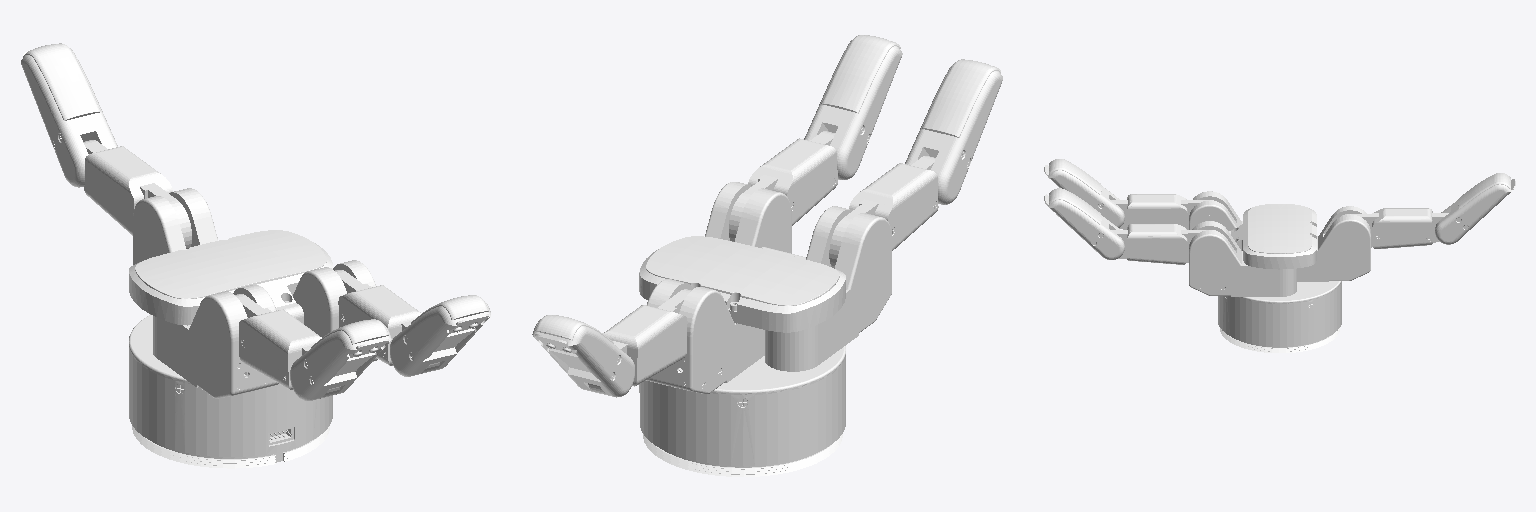
--- What the picture shows (computed from the rendered views, not written in the file) ---
The picture shows the robot from 3 angles, left to right: view 1: azimuth 30°, elevation 25°; view 2: azimuth 150°, elevation 25°; view 3: azimuth 270°, elevation 25°; orthographic projection.
Robot: kuka-lwr-4plus-bh8-mod — 23 links, 22 joints (15 revolute, 7 fixed); root link world; default pose: all joints at 0.
Visible links, largest first — view 1: bhand_palm_link, finger_1/prox_link, finger_3/dist_link, finger_3/med_link, finger_1/dist_link, finger_2/dist_link, finger_1/med_link, finger_2/med_link, finger_2/prox_link; view 2: bhand_palm_link, finger_1/prox_link, finger_1/dist_link, finger_2/dist_link, finger_1/med_link, finger_2/med_link, finger_3/dist_link, finger_3/med_link, finger_2/prox_link; view 3: bhand_palm_link, finger_2/prox_link, finger_3/med_link, finger_2/med_link, finger_3/dist_link, finger_2/dist_link, finger_1/med_link, finger_1/dist_link, finger_1/prox_link.
Boxes of the visible links, x1,y1,x2,y2 form: bhand_palm_link: (129,188,332,468); finger_1/prox_link: (153,285,278,398); finger_3/dist_link: (21,43,117,187); finger_3/med_link: (83,140,191,248); finger_1/dist_link: (290,319,391,400); finger_2/dist_link: (390,295,490,376); finger_1/med_link: (235,294,340,398); finger_2/med_link: (335,270,439,373); finger_2/prox_link: (293,260,377,361); bhand_palm_link: (639,236,845,476); finger_1/prox_link: (765,206,891,371); finger_1/dist_link: (905,59,1002,204); finger_2/dist_link: (804,35,902,179); finger_1/med_link: (829,156,938,268); finger_2/med_link: (729,131,837,241); finger_3/dist_link: (532,315,634,397); finger_3/med_link: (588,289,691,394); finger_2/prox_link: (705,182,791,253); bhand_palm_link: (1218,204,1370,352); finger_2/prox_link: (1189,221,1296,296); finger_3/med_link: (1342,208,1448,248); finger_2/med_link: (1112,224,1217,264); finger_3/dist_link: (1435,173,1515,244); finger_2/dist_link: (1044,188,1124,259); finger_1/med_link: (1111,194,1216,229); finger_1/dist_link: (1044,159,1124,227); finger_1/prox_link: (1189,191,1242,230).
Size in the robot's own frame: 0.089 by 0.3353 by 0.1187 metres.
9 mesh visuals loaded from 10 distinct referenced files (4 OBJ); not drawn: 8 (reference not matched to a file when rendering).

The robot description file, URDF, robot "kuka-lwr-4plus-bh8-mod":
<robot name="kuka-lwr-4plus-bh8-mod" xmlns:controller="http://playerstage.sourceforge.net/gazebo/xmlschema/#controller" xmlns:interface="http://playerstage.sourceforge.net/gazebo/xmlschema/#interface" xmlns:sensor="http://playerstage.sourceforge.net/gazebo/xmlschema/#sensor" xmlns:xacro="http://www.ros.org/wiki/xacro">
    <material name="DarkGrey">
        <color rgba="0.3 0.3 0.3 1.0" />
    </material>
    <material name="Red">
        <color rgba="0.3 0.3 0.3 1.0" />
    </material>
    <material name="Black">
        <color rgba="0 0 0 1.0" />
    </material>
    <material name="Orange">
        <color rgba="1.0 0.487 0 1.0" />
    </material>
    <material name="Silver">
        <color rgba="1.0 1.0 1.0 1.0" />
    </material>
    <material name="Grey">
        <color rgba="0.7 0.7 0.7 1.0" />
    </material>
    <material name="Blue">
        <color rgba="0.0 0.0 0.8 1.0" />
    </material>
    <material name="HandGray">
        <color rgba="0.953 0.996 0.694 1.0" />
    </material>
    <material name="SickBlue">
        <color rgba="0.3058 0.5921 0.7294 1.0" />
    </material>
    <link name="world" />
    <joint name="lwr_arm_world_joint" type="fixed">
        <origin rpy="0 0 0" xyz="0 0 0" />
        <parent link="world" />
        <child link="lwr_arm_base_link" />
    </joint>
    <link name="lwr_arm_base_link">
        <inertial>
            <mass value="1.2" />
            <origin rpy="0 0 0" xyz="0 0 0.055" />
            <inertia ixx="0.00229" ixy="0" ixz="0" iyy="0.00216" iyz="0" izz="0.00229" />
        </inertial>
        <visual>
            <origin rpy="0 0 0" xyz="0 0 0" />
            <geometry>
                <mesh filename="model://kuka-lwr-4plus/meshes/arm_base.dae" scale="100 100 100" />
            </geometry>
            <material name="Orange" />
        </visual>
    </link>
    <gazebo reference="lwr_arm_base_link">
        <!--<material value="kuka-lwr.material"/>-->
    </gazebo>
    <joint name="lwr_arm_0_joint" type="revolute">
        <origin rpy="0 0 0" xyz="0 0 0.11" />
        <axis xyz="0 0 1" />
        <limit effort="204" lower="-2.96705972839" upper="2.96705972839" velocity="1.91986217719" />
        <safety_controller k_position="100" k_velocity="2" soft_lower_limit="-2.93215314335" soft_upper_limit="2.93215314335" />
        <dynamics damping="5.0" />
        <parent link="lwr_arm_base_link" />
        <child link="lwr_arm_1_link" />
    </joint>
    <gazebo reference="lwr_arm_0_joint">
        <provideFeedback>1</provideFeedback>
        <implicitSpringDamper>1</implicitSpringDamper>
    </gazebo>
    <transmission name="lwr_arm_0_trans" type="SimpleTransmission">
        <actuator name="lwr_arm_0_motor" />
        <joint name="lwr_arm_0_joint" />
        <mechanicalReduction>1.0</mechanicalReduction>
    </transmission>
    <link name="lwr_arm_1_link">
        <inertial>
            <mass value="2.0" />
            <origin rpy="0 0 0" xyz="0 0 0.130" />
            <inertia ixx="0.0136666666667" ixy="0" ixz="0" iyy="0.0118666666667" iyz="0" izz="0.003" />
        </inertial>
        <visual>
            <origin rpy="0 0 3.14159265359" xyz="0 0 0" />
            <geometry>
                <mesh filename="model://kuka-lwr-4plus/meshes/arm_segment_a.dae" scale="100 100 100" />
            </geometry>
            <material name="Orange" />
        </visual>
        <collision>
            <origin rpy="0 0 3.14159265359" xyz="0 0 0" />
            <geometry>
                <mesh filename="model://kuka-lwr-4plus/meshes/convex/arm_segment_a_convex.stl" scale="1.0 1.0 1.0" />
            </geometry>
        </collision>
    </link>
    <gazebo reference="lwr_arm_1_link">
        <!--<material value="kuka-lwr.material"/>-->
    </gazebo>
    <joint name="lwr_arm_1_joint" type="revolute">
        <origin rpy="0 0 0" xyz="0 0 0.20" />
        <axis xyz="0 -1 0" />
        <limit effort="306" lower="-2.09439510239" upper="2.09439510239" velocity="1.91986217719" />
        <safety_controller k_position="100" k_velocity="2" soft_lower_limit="-2.05948851735" soft_upper_limit="2.05948851735" />
        <dynamics damping="5.0" />
        <parent link="lwr_arm_1_link" />
        <child link="lwr_arm_2_link" />
    </joint>
    <gazebo reference="lwr_arm_1_joint">
        <provideFeedback>1</provideFeedback>
        <implicitSpringDamper>1</implicitSpringDamper>
    </gazebo>
    <transmission name="lwr_arm_1_trans" type="pr2_mechanism_model/SimpleTransmission">
        <actuator name="lwr_arm_1_motor" />
        <joint name="lwr_arm_1_joint" />
        <mechanicalReduction>1.0</mechanicalReduction>
    </transmission>
    <link name="lwr_arm_2_link">
        <inertial>
            <mass value="2.0" />
            <origin rpy="0 0 0" xyz="0 -0.06 0.07" />
            <inertia ixx="0.0136666666667" ixy="0" ixz="0" iyy="0.0118666666667" iyz="0" izz="0.003" />
        </inertial>
        <visual>
            <origin rpy="3.14159265359 0 3.14159265359" xyz="0 0 0.2" />
            <geometry>
                <mesh filename="model://kuka-lwr-4plus/meshes/arm_segment_b.dae" scale="100 100 100" />
            </geometry>
            <material name="Orange" />
        </visual>
        <collision>
            <origin rpy="3.14159265359 0 3.14159265359" xyz="0 0 0.2" />
            <geometry>
                <mesh filename="model://kuka-lwr-4plus/meshes/convex/arm_segment_b_convex.stl" scale="1.0 1.0 1.0" />
            </geometry>
        </collision>
    </link>
    <gazebo reference="lwr_arm_2_link">
        <!--<material value="kuka-lwr.material"/>-->
    </gazebo>
    <joint name="lwr_arm_2_joint" type="revolute">
        <origin rpy="0 0 0" xyz="0 0 0.20" />
        <axis xyz="0 0 1" />
        <limit effort="204" lower="-2.96705972839" upper="2.96705972839" velocity="2.26892802759" />
        <safety_controller k_position="100" k_velocity="2" soft_lower_limit="-2.93215314335" soft_upper_limit="2.93215314335" />
        <dynamics damping="3.0" />
        <parent link="lwr_arm_2_link" />
        <child link="lwr_arm_3_link" />
    </joint>
    <gazebo reference="lwr_arm_2_joint">
        <provideFeedback>1</provideFeedback>
        <implicitSpringDamper>1</implicitSpringDamper>
    </gazebo>
    <transmission name="lwr_arm_2_trans" type="SimpleTransmission">
        <actuator name="lwr_arm_2_motor" />
        <joint name="lwr_arm_2_joint" />
        <mechanicalReduction>1.0</mechanicalReduction>
    </transmission>
    <link name="lwr_arm_3_link">
        <inertial>
            <mass value="2.0" />
            <origin rpy="0 0 0" xyz="0 -0.06 0.130" />
            <inertia ixx="0.0136666666667" ixy="0" ixz="0" iyy="0.0118666666667" iyz="0" izz="0.003" />
        </inertial>
        <visual>
            <origin rpy="0 0 0" xyz="0 0 0" />
            <geometry>
                <mesh filename="model://kuka-lwr-4plus/meshes/arm_segment_a.dae" scale="100 100 100" />
            </geometry>
            <material name="Orange" />
        </visual>
        <collision>
            <origin rpy="0 0 0" xyz="0 0 0" />
            <geometry>
                <mesh filename="model://kuka-lwr-4plus/meshes/convex/arm_segment_a_convex.stl" scale="1.0 1.0 1.0" />
            </geometry>
        </collision>
    </link>
    <gazebo reference="lwr_arm_3_link">
        <!--<material value="kuka-lwr.material"/>-->
    </gazebo>
    <joint name="lwr_arm_3_joint" type="revolute">
        <origin rpy="0 0 0" xyz="0 0 0.20" />
        <axis xyz="0 1 0" />
        <limit effort="306" lower="-2.09439510239" upper="2.09439510239" velocity="2.26892802759" />
        <safety_controller k_position="100" k_velocity="2" soft_lower_limit="-2.05948851735" soft_upper_limit="2.05948851735" />
        <dynamics damping="3.0" />
        <parent link="lwr_arm_3_link" />
        <child link="lwr_arm_4_link" />
    </joint>
    <gazebo reference="lwr_arm_3_joint">
        <provideFeedback>1</provideFeedback>
        <implicitSpringDamper>1</implicitSpringDamper>
    </gazebo>
    <transmission name="lwr_arm_3_trans" type="SimpleTransmission">
        <actuator name="lwr_arm_3_motor" />
        <joint name="lwr_arm_3_joint" />
        <mechanicalReduction>1.0</mechanicalReduction>
    </transmission>
    <link name="lwr_arm_4_link">
        <inertial>
            <mass value="2.0" />
            <origin rpy="0 0 0" xyz="0 0.06 0.07" />
            <inertia ixx="0.0136666666667" ixy="0" ixz="0" iyy="0.0118666666667" iyz="0" izz="0.003" />
        </inertial>
        <visual>
            <origin rpy="0 3.14159265359 3.14159265359" xyz="0 0 0.2" />
            <geometry>
                <mesh filename="model://kuka-lwr-4plus/meshes/arm_segment_b.dae" scale="100 100 100" />
            </geometry>
            <material name="Orange" />
        </visual>
        <collision>
            <origin rpy="0 3.14159265359 3.14159265359" xyz="0 0 0.2" />
            <geometry>
                <mesh filename="model://kuka-lwr-4plus/meshes/convex/arm_segment_b_convex.stl" scale="1.0 1.0 1.0" />
            </geometry>
        </collision>
    </link>
    <gazebo reference="lwr_arm_4_link">
        <!--<material value="kuka-lwr.material"/>-->
    </gazebo>
    <joint name="lwr_arm_4_joint" type="revolute">
        <origin rpy="0 0 0" xyz="0 0 0.20" />
        <axis xyz="0 0 1" />
        <limit effort="204" lower="-2.96705972839" upper="2.96705972839" velocity="2.26892802759" />
        <safety_controller k_position="100" k_velocity="2" soft_lower_limit="-2.93215314335" soft_upper_limit="2.93215314335" />
        <dynamics damping="1.0" />
        <parent link="lwr_arm_4_link" />
        <child link="lwr_arm_5_link" />
    </joint>
    <gazebo reference="lwr_arm_4_joint">
        <provideFeedback>1</provideFeedback>
        <implicitSpringDamper>1</implicitSpringDamper>
    </gazebo>
    <transmission name="lwr_arm_4_trans" type="SimpleTransmission">
        <actuator name="lwr_arm_4_motor" />
        <joint name="lwr_arm_4_joint" />
        <mechanicalReduction>1.0</mechanicalReduction>
    </transmission>
    <link name="lwr_arm_5_link">
        <inertial>
            <mass value="2.0" />
            <origin rpy="0 0 0" xyz="0 0 0.124" />
            <inertia ixx="0.0126506666667" ixy="0" ixz="0" iyy="0.0108506666667" iyz="0" izz="0.003" />
        </inertial>
        <visual>
            <origin rpy="0 0 3.14159265359" xyz="0 0 0" />
            <geometry name="lwr_arm_5_geom">
                <mesh filename="model://kuka-lwr-4plus/meshes/arm_segment_last.dae" scale="100 100 100" />
            </geometry>
            <material name="Orange" />
        </visual>
        <collision>
            <origin rpy="0 0 3.14159265359" xyz="0 0 0" />
            <geometry>
                <mesh filename="model://kuka-lwr-4plus/meshes/convex/arm_segment_last_convex.stl" scale="1.0 1.0 1.0" />
            </geometry>
        </collision>
    </link>
    <gazebo reference="lwr_arm_5_link">
        <!--<material value="kuka-lwr.material"/>-->
    </gazebo>
    <joint name="lwr_arm_5_joint" type="revolute">
        <origin rpy="0 0 0" xyz="0 0 0.19" />
        <axis xyz="0 -1 0" />
        <limit effort="306" lower="-2.09439510239" upper="2.09439510239" velocity="3.14159265359" />
        <safety_controller k_position="100" k_velocity="2" soft_lower_limit="-2.05948851735" soft_upper_limit="2.05948851735" />
        <dynamics damping="1.0" />
        <parent link="lwr_arm_5_link" />
        <child link="lwr_arm_6_link" />
    </joint>
    <gazebo reference="lwr_arm_5_joint">
        <provideFeedback>1</provideFeedback>
        <implicitSpringDamper>1</implicitSpringDamper>
    </gazebo>
    <transmission name="lwr_arm_5_trans" type="SimpleTransmission">
        <actuator name="lwr_arm_5_motor" />
        <joint name="lwr_arm_5_joint" />
        <mechanicalReduction>1.0</mechanicalReduction>
    </transmission>
    <link name="lwr_arm_6_link">
        <inertial>
            <mass value="1.0" />
            <origin rpy="0 0 0" xyz="0 0 0.0" />
            <inertia ixx="0.00260416666667" ixy="0" ixz="0" iyy="0.00260416666667" iyz="0" izz="0.00260416666667" />
        </inertial>
        <visual>
            <origin rpy="0 0 3.14159265359" xyz="0 0 0" />
            <geometry>
                <mesh filename="model://kuka-lwr-4plus/meshes/arm_wrist.dae" scale="100 100 100" />
            </geometry>
            <material name="Grey" />
        </visual>
        <collision>
            <origin rpy="0 0 3.14159265359" xyz="0 0 0" />
            <geometry>
                <mesh filename="model://kuka-lwr-4plus/meshes/convex/arm_wrist_convex.stl" scale="1.0 1.0 1.0" />
            </geometry>
        </collision>
    </link>
    <gazebo reference="lwr_arm_6_link">
        <!--<material value="kuka-lwr.material"/>-->
    </gazebo>
    <joint name="lwr_arm_6_joint" type="revolute">
        <origin rpy="0 0 0" xyz="0 0 0.078" />
        <axis xyz="0 0 1" />
        <limit effort="204" lower="-2.96705972839" upper="2.96705972839" velocity="3.14159265359" />
        <safety_controller k_position="100" k_velocity="2" soft_lower_limit="-2.93215314335" soft_upper_limit="2.93215314335" />
        <dynamics damping="1.0" />
        <parent link="lwr_arm_6_link" />
        <child link="lwr_arm_7_link" />
    </joint>
    <gazebo reference="lwr_arm_6_joint">
        <provideFeedback>1</provideFeedback>
        <implicitSpringDamper>1</implicitSpringDamper>
    </gazebo>
    <transmission name="lwr_arm_6_trans" type="SimpleTransmission">
        <actuator name="lwr_arm_6_motor" />
        <joint name="lwr_arm_6_joint" />
        <mechanicalReduction>1.0</mechanicalReduction>
    </transmission>
    <link name="lwr_arm_7_link">
        <inertial>
            <mass value="0.2" />
            <origin xyz="0 0 0" />
            <inertia ixx="6.66666666667e-05" ixy="0" ixz="0" iyy="6.66666666667e-05" iyz="0" izz="0.00012" />
        </inertial>
        <visual>
            <origin rpy="0 0 0" xyz="0 0 0" />
            <geometry>
                <mesh filename="model://kuka-lwr-4plus/meshes/arm_flanche.dae" scale="100 100 100" />
            </geometry>
            <material name="Grey" />
        </visual>
        <collision>
            <origin rpy="0 0 0" xyz="0 0 0" />
            <geometry>
                <!--mesh filename="model://kuka-lwr-4plus/meshes/convex/arm_flanche_convex.stl" scale="1.0 1.0 1.0"/-->
                <mesh filename="model://kuka-lwr-4plus/meshes/arm_flanche.dae" scale="100 100 100" />
            </geometry>
            <surface>
                <friction>
                    <ode>
                        <mu>0.0</mu>
                        <mu2>0.0</mu2>
                    </ode>
                </friction>
            </surface>
        </collision>
    </link>
    <gazebo reference="lwr_arm_7_link">
        <!--<material value="kuka-lwr.material"/>-->
    </gazebo>

    <joint name="lwr_arm_7_tool_joint" type="fixed">
        <origin rpy="0 0 0" xyz="0 0 0" />
        <!-- 3.141592 -->
        <limit effort="0" lower="0" upper="0" velocity="0" />
        <parent link="lwr_arm_7_link"/>
        <child link="bhand_palm_link"/>
    </joint>
    <gazebo reference="lwr_arm_7_tool_joint">
        <provideFeedback>1</provideFeedback>
        <preserveFixedJoint>true</preserveFixedJoint>
        <!-- <sensor name="right_force_torque" type="force_torque">
            <always_on>true</always_on>
            <visualize>true</visualize>
            <update_rate>100</update_rate>
            <force_torque>
                <frame>child</frame>
                <measure_direction>child_to_parent</measure_direction>
            </force_torque>
        </sensor> -->
    </gazebo>

    <!-- hand start -->
  <link name="bhand_palm_link">
    <inertial>
      <origin xyz="-5.1098e-005 0.0050433 0.036671"/>
      <mass value="0.50573"/>
      <inertia ixx="3.8374e-005" ixy="-5.604e-008" ixz="-4.2034e-005" iyy="0.00022405" iyz="1.3283e-007" izz="0.00020045"/>
    </inertial>
    <visual>
      <material name="WAMGrey">
        <color rgba="1 1 1 1"/>
      </material>
      <geometry>
        <mesh filename="barrett-bh8/meshes/sw_meshes/bhand/palm_fine.obj"/>
      </geometry>
    </visual>
    <!-- wrist -->
    <collision>
      <origin xyz="0 0 0.02029"/>
      <geometry>
        <cylinder length="0.042" radius="0.045"/>
      </geometry>
    </collision>
    <!-- spine -->
    <collision>
      <origin xyz="0 0.01105 0.05768"/>
      <geometry>
        <box size="0.024 0.108 0.033"/>
      </geometry>
    </collision>
    <!-- palm -->
    <collision>
      <origin xyz="0 0 0.07243"/>
      <geometry>
        <box size="0.076 0.046 0.012"/>
      </geometry>
      <surface>
        <friction>
          <ode>
            <mu>1</mu>
            <mu2>1</mu2>
          </ode>
        </friction>
      </surface>
    </collision>
    <!-- F1 knuckle -->
    <collision>
      <origin rpy="0 1.5707 0" xyz="0 0.05 0.07527"/>
      <geometry>
        <cylinder length="0.024" radius="0.015"/>
      </geometry>
    </collision>
  </link>
  <joint name="right_bhand_palm_surface_joint" type="fixed">
    <parent link="bhand_palm_link"/>
    <child link="right_bhand_palm_surface_link"/>
    <origin rpy="0 0 0" xyz="0 0 0.08"/>
    <limit effort="30" lower="0" upper="3.14159265359" velocity="5.0"/>
  </joint>
  <link name="right_bhand_palm_surface_link">
    <inertial>
      <mass value="0.00001"/>
      <inertia ixx="0.000001" ixy="0.0" ixz="0.0" iyy="0.000001" iyz="0.0" izz="0.000001"/>
    </inertial>
  </link>
  <joint name="right_bhand_grasp_joint" type="fixed">
    <parent link="bhand_palm_link"/>
    <child link="right_bhand_grasp_link"/>
    <origin rpy="0 0 0" xyz="0 0 0.12"/>
    <limit effort="30" lower="0" upper="3.14159265359" velocity="5.0"/>
  </joint>
  <link name="right_bhand_grasp_link">
    <collision>
      <!-- https://github.com/ros-planning/moveit_core/issues/158 -->
      <origin rpy="0 0 0" xyz="0 0 -0.13"/>
      <geometry>
        <sphere radius="0.001"/>
      </geometry>
    </collision>
    <inertial>
      <mass value="0.00001"/>
      <inertia ixx="0.000001" ixy="0.0" ixz="0.0" iyy="0.000001" iyz="0.0" izz="0.000001"/>
    </inertial>
  </link>
  <joint name="finger_1/prox_joint" type="revolute">
    <parent link="bhand_palm_link"/>
    <child link="finger_1/prox_link"/>
    <origin rpy="0 0 -1.57079632679" xyz="-0.025 0.0 0.0415"/>
    <axis xyz="0 0 -1"/>
    <limit effort="5" lower="0" upper="3.14159265359" velocity="10.0"/>
    <!-- <dynamics damping="0.35" friction="0"/> -->
    <dynamics damping="0.1" friction="0"/>
  </joint>
  <link name="finger_1/prox_link">
    <inertial>
      <origin xyz="0.023133 0.00078642 0.00052792"/>
      <mass value="0.14109"/>
      <inertia ixx="4.872e-006" ixy="1.7103e-006" ixz="3.4041e-008" iyy="7.6588e-005" iyz="2.3133e-008" izz="7.7733e-005"/>
    </inertial>
    <visual>
      <material name="WAMGrey">
        <color rgba="1 1 1 1"/>
      </material>
      <geometry>
        <mesh filename="barrett-bh8/meshes/sw_meshes/bhand/prox_fine.obj"/>
      </geometry>
    </visual>
    <!-- base -->
    <collision>
      <origin xyz="0.03217 0.0 0.01674"/>
      <geometry>
        <box size="0.066 0.024 0.033"/>
      </geometry>
    </collision>
    <!-- F2/F3 knuckle -->
    <collision>
      <origin rpy="1.5707 0 0" xyz="0.05 0.0 0.034"/>
      <geometry>
        <cylinder length="0.024" radius="0.015"/>
      </geometry>
    </collision>
  </link>
  <joint name="finger_1/med_joint" type="revolute">
    <parent link="finger_1/prox_link"/>
    <child link="finger_1/med_link"/>
    <origin rpy="1.57079632679 0 0" xyz="0.05 0.0 0.03390"/>
    <axis xyz="0 0 1"/>
    <limit effort="30" lower="0" upper="2.44346095279" velocity="10.00"/>
    <!-- <dynamics damping="0.35" friction="0"/> -->
    <dynamics damping="0.1" friction="0"/>
  </joint>
  <link name="finger_1/med_link">
    <inertial>
      <origin xyz="0.023133 0.00078642 0.00052792"/>
      <mass value="0.062139"/>
      <inertia ixx="4.872e-006" ixy="1.7103e-006" ixz="3.4041e-008" iyy="7.6588e-005" iyz="2.3133e-008" izz="7.7733e-005"/>
    </inertial>
    <visual>
      <material name="WAMGrey">
        <color rgba="1 1 1 1"/>
      </material>
      <geometry>
        <mesh filename="barrett-bh8/meshes/sw_meshes/bhand/med_fine.obj"/>
      </geometry>
    </visual>
    <!-- spine -->
    <collision>
      <origin xyz="0.03493 0.003 -0.0007"/>
      <geometry>
        <box size="0.07 0.019 0.006"/>
      </geometry>
    </collision>
    <!-- protrusion -->
    <collision>
      <origin xyz="0.03894 0.00376 -0.0007"/>
      <geometry>
        <box size="0.031 0.023 0.019"/>
      </geometry>
      <surface>
        <friction>
          <ode>
            <mu>1</mu>
            <mu2>1</mu2>
          </ode>
        </friction>
      </surface>
    </collision>
  </link>
  <joint name="finger_1/dist_joint" type="revolute">
    <parent link="finger_1/med_link"/>
    <child link="finger_1/dist_link"/>
    <origin rpy="0 0 0.785398163397" xyz="0.06994 0.003 0.0"/>
    <axis xyz="0 0 1"/>
    <limit effort="30" lower="0" upper="0.837758040957" velocity="10.00"/>
    <!-- <dynamics damping="0.35" friction="0"/> -->
    <dynamics damping="0.1" friction="0"/>
  </joint>
  <link name="finger_1/dist_link">
    <inertial>
      <origin rpy="0 0 0" xyz="0.022825 0.0010491 0.0004203"/>
      <mass value="0.041377"/>
      <inertia ixx="3.1582e-006" ixy="1.4308e-006" ixz="1.0106e-007" iyy="3.8376e-005" iyz="0" izz="3.7275e-005"/>
    </inertial>
    <visual>
      <origin rpy="0 0 -0.785398163397"/>
      <material name="WAMGrey">
        <color rgba="1 1 1 1"/>
      </material>
      <geometry>
        <mesh filename="barrett-bh8/meshes/sw_meshes/bhand/dist_fine.obj"/>
      </geometry>
    </visual>
    <collision>
      <origin rpy="0 0 -0.785398163397"/>
      <geometry>
        <mesh filename="barrett-bh8/meshes/sw_meshes/bhand/bhand_finger_dist_link_convex.dae"/>
      </geometry>
      <surface>
        <friction>
          <ode>
            <mu>1</mu>
            <mu2>1</mu2>
          </ode>
        </friction>
      </surface>
    </collision>
  </link>
  <joint name="finger_1/tip_joint" type="fixed">
    <parent link="finger_1/dist_link"/>
    <child link="finger_1/tip_link"/>
    <origin rpy="0 0 0" xyz="0.05 0.0 0.0"/>
  </joint>
  <link name="finger_1/tip_link">
    <inertial>
      <mass value="1E-6"/>
      <inertia ixx="1E-6" ixy="0" ixz="0" iyy="1E-6" iyz="0" izz="1E-6"/>
    </inertial>
  </link>
  <joint name="finger_2/prox_joint" type="revolute">
    <parent link="bhand_palm_link"/>
    <child link="finger_2/prox_link"/>
    <origin rpy="0 0 -1.57079632679" xyz="0.025 0.0 0.0415"/>
    <axis xyz="0 0 1"/>
    <limit effort="5" lower="0" upper="3.14159265359" velocity="10.0"/>
    <!-- Change the damping to influence the spread behavior -->
    <!-- <dynamics damping="0.35" friction="0"/> -->
    <dynamics damping="0.1" friction="0"/>
  </joint>
  <link name="finger_2/prox_link">
    <inertial>
      <origin xyz="0.023133 0.00078642 0.00052792"/>
      <mass value="0.14109"/>
      <inertia ixx="4.872e-006" ixy="1.7103e-006" ixz="3.4041e-008" iyy="7.6588e-005" iyz="2.3133e-008" izz="7.7733e-005"/>
    </inertial>
    <visual>
      <material name="WAMGrey">
        <color rgba="1 1 1 1"/>
      </material>
      <geometry>
        <mesh filename="barrett-bh8/meshes/sw_meshes/bhand/prox_fine.obj"/>
      </geometry>
    </visual>
    <!-- base -->
    <collision>
      <origin xyz="0.03217 0.0 0.01674"/>
      <geometry>
        <box size="0.066 0.024 0.033"/>
      </geometry>
    </collision>
    <!-- F2/F3 knuckle -->
    <collision>
      <origin rpy="1.5707 0 0" xyz="0.05 0.0 0.034"/>
      <geometry>
        <cylinder length="0.024" radius="0.015"/>
      </geometry>
    </collision>
  </link>
  <joint name="finger_2/med_joint" type="revolute">
    <parent link="finger_2/prox_link"/>
    <child link="finger_2/med_link"/>
    <origin rpy="1.57079632679 0 0" xyz="0.05 0.0 0.03390"/>
    <axis xyz="0 0 1"/>
    <limit effort="30" lower="0" upper="2.44346095279" velocity="10.00"/>
    <!-- <dynamics damping="0.35" friction="0"/> -->
    <dynamics damping="0.1" friction="0"/>
  </joint>
  <link name="finger_2/med_link">
    <inertial>
      <origin xyz="0.023133 0.00078642 0.00052792"/>
      <mass value="0.062139"/>
      <inertia ixx="4.872e-006" ixy="1.7103e-006" ixz="3.4041e-008" iyy="7.6588e-005" iyz="2.3133e-008" izz="7.7733e-005"/>
    </inertial>
    <visual>
      <material name="WAMGrey">
        <color rgba="1 1 1 1"/>
      </material>
      <geometry>
        <mesh filename="barrett-bh8/meshes/sw_meshes/bhand/med_fine.obj"/>
      </geometry>
    </visual>
    <!-- spine -->
    <collision>
      <origin xyz="0.03493 0.003 -0.0007"/>
      <geometry>
        <box size="0.07 0.019 0.006"/>
      </geometry>
    </collision>
    <!-- protrusion -->
    <collision>
      <origin xyz="0.03894 0.00376 -0.0007"/>
      <geometry>
        <box size="0.031 0.023 0.019"/>
      </geometry>
      <surface>
        <friction>
          <ode>
            <mu>1</mu>
            <mu2>1</mu2>
          </ode>
        </friction>
      </surface>
    </collision>
  </link>
  <joint name="finger_2/dist_joint" type="revolute">
    <parent link="finger_2/med_link"/>
    <child link="finger_2/dist_link"/>
    <origin rpy="0 0 0.785398163397" xyz="0.06994 0.003 0.0"/>
    <axis xyz="0 0 1"/>
    <limit effort="30" lower="0" upper="0.837758040957" velocity="10.00"/>
    <!-- <dynamics damping="0.35" friction="0"/> -->
    <dynamics damping="0.1" friction="0"/>
  </joint>
  <link name="finger_2/dist_link">
    <inertial>
      <origin rpy="0 0 0" xyz="0.022825 0.0010491 0.0004203"/>
      <mass value="0.041377"/>
      <inertia ixx="3.1582e-006" ixy="1.4308e-006" ixz="1.0106e-007" iyy="3.8376e-005" iyz="0" izz="3.7275e-005"/>
    </inertial>
    <visual>
      <origin rpy="0 0 -0.785398163397"/>
      <material name="WAMGrey">
        <color rgba="1 1 1 1"/>
      </material>
      <geometry>
        <mesh filename="barrett-bh8/meshes/sw_meshes/bhand/dist_fine.obj"/>
      </geometry>
    </visual>
    <collision>
      <origin rpy="0 0 -0.785398163397"/>
      <geometry>
        <mesh filename="barrett-bh8/meshes/sw_meshes/bhand/bhand_finger_dist_link_convex.dae"/>
      </geometry>
      <surface>
        <friction>
          <ode>
            <mu>1</mu>
            <mu2>1</mu2>
          </ode>
        </friction>
      </surface>
    </collision>
  </link>
  <joint name="finger_2/tip_joint" type="fixed">
    <parent link="finger_2/dist_link"/>
    <child link="finger_2/tip_link"/>
    <origin rpy="0 0 0" xyz="0.05 0.0 0.0"/>
  </joint>
  <link name="finger_2/tip_link">
    <inertial>
      <mass value="1E-6"/>
      <inertia ixx="1E-6" ixy="0" ixz="0" iyy="1E-6" iyz="0" izz="1E-6"/>
    </inertial>
  </link>
  <joint name="finger_3/med_joint" type="revolute">
    <parent link="bhand_palm_link"/>
    <child link="finger_3/med_link"/>
    <origin rpy="1.57079632679 0 1.57079632679" xyz="0 0.05 0.0754"/>
    <axis xyz="0 0 1"/>
    <limit effort="30" lower="0" upper="2.44346095279" velocity="10.00"/>
    <!-- <dynamics damping="0.35" friction="0"/> -->
    <dynamics damping="0.1" friction="0"/>
  </joint>
  <link name="finger_3/med_link">
    <inertial>
      <origin xyz="0.023133 0.00078642 0.00052792"/>
      <mass value="0.062139"/>
      <inertia ixx="4.872e-006" ixy="1.7103e-006" ixz="3.4041e-008" iyy="7.6588e-005" iyz="2.3133e-008" izz="7.7733e-005"/>
    </inertial>
    <visual>
      <material name="WAMGrey">
        <color rgba="1 1 1 1"/>
      </material>
      <geometry>
        <mesh filename="barrett-bh8/meshes/sw_meshes/bhand/med_fine.obj"/>
      </geometry>
    </visual>
    <!-- spine -->
    <collision>
      <origin xyz="0.03493 0.003 -0.0007"/>
      <geometry>
        <box size="0.07 0.019 0.006"/>
      </geometry>
    </collision>
    <!-- protrusion -->
    <collision>
      <origin xyz="0.03894 0.00376 -0.0007"/>
      <geometry>
        <box size="0.031 0.023 0.019"/>
      </geometry>
      <surface>
        <friction>
          <ode>
            <mu>1</mu>
            <mu2>1</mu2>
          </ode>
        </friction>
      </surface>
    </collision>
  </link>
  <joint name="finger_3/dist_joint" type="revolute">
    <parent link="finger_3/med_link"/>
    <child link="finger_3/dist_link"/>
    <origin rpy="0 0 0.785398163397" xyz="0.06994 0.003 0.0"/>
    <axis xyz="0 0 1"/>
    <limit effort="30" lower="0" upper="0.837758040957" velocity="10.00"/>
    <!-- <dynamics damping="0.35" friction="0"/> -->
    <dynamics damping="0.1" friction="0"/>
  </joint>
  <link name="finger_3/dist_link">
    <inertial>
      <origin rpy="0 0 0" xyz="0.022825 0.0010491 0.0004203"/>
      <mass value="0.041377"/>
      <inertia ixx="3.1582e-006" ixy="1.4308e-006" ixz="1.0106e-007" iyy="3.8376e-005" iyz="0" izz="3.7275e-005"/>
    </inertial>
    <visual>
      <origin rpy="0 0 -0.785398163397"/>
      <material name="WAMGrey">
        <color rgba="1 1 1 1"/>
      </material>
      <geometry>
        <mesh filename="barrett-bh8/meshes/sw_meshes/bhand/dist_fine.obj"/>
      </geometry>
    </visual>
    <collision>
      <origin rpy="0 0 -0.785398163397"/>
      <geometry>
        <mesh filename="barrett-bh8/meshes/sw_meshes/bhand/bhand_finger_dist_link_convex.dae"/>
      </geometry>
      <surface>
        <friction>
          <ode>
            <mu>1</mu>
            <mu2>1</mu2>
          </ode>
        </friction>
      </surface>
    </collision>
  </link>
  <joint name="finger_3/tip_joint" type="fixed">
    <parent link="finger_3/dist_link"/>
    <child link="finger_3/tip_link"/>
    <origin rpy="0 0 0" xyz="0.05 0.0 0.0"/>
  </joint>
  <link name="finger_3/tip_link">
    <inertial>
      <mass value="1E-6"/>
      <inertia ixx="1E-6" ixy="0" ixz="0" iyy="1E-6" iyz="0" izz="1E-6"/>
    </inertial>
  </link>
<!-- hand end -->
</robot>
